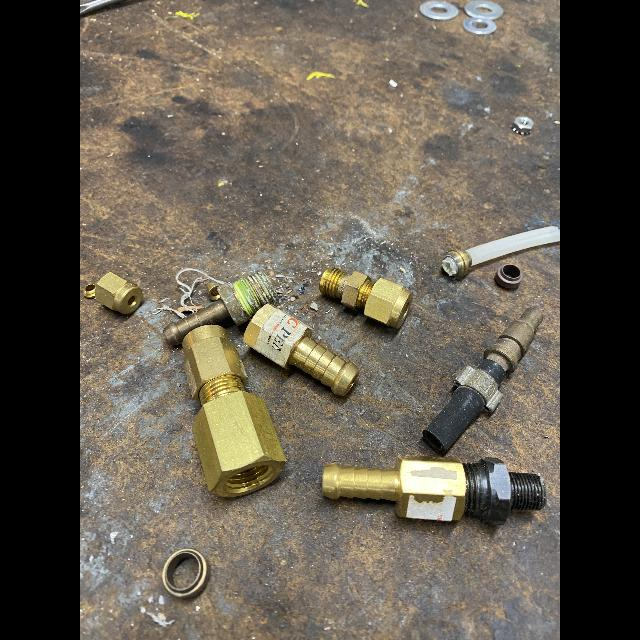Brass: (183, 324, 287, 498), (321, 455, 465, 520), (319, 267, 413, 329), (163, 283, 247, 345), (288, 330, 359, 395), (483, 308, 544, 372), (162, 548, 211, 600), (94, 272, 143, 314), (243, 303, 276, 349), (247, 272, 279, 304), (443, 249, 472, 276), (496, 264, 523, 288), (207, 282, 221, 301)
